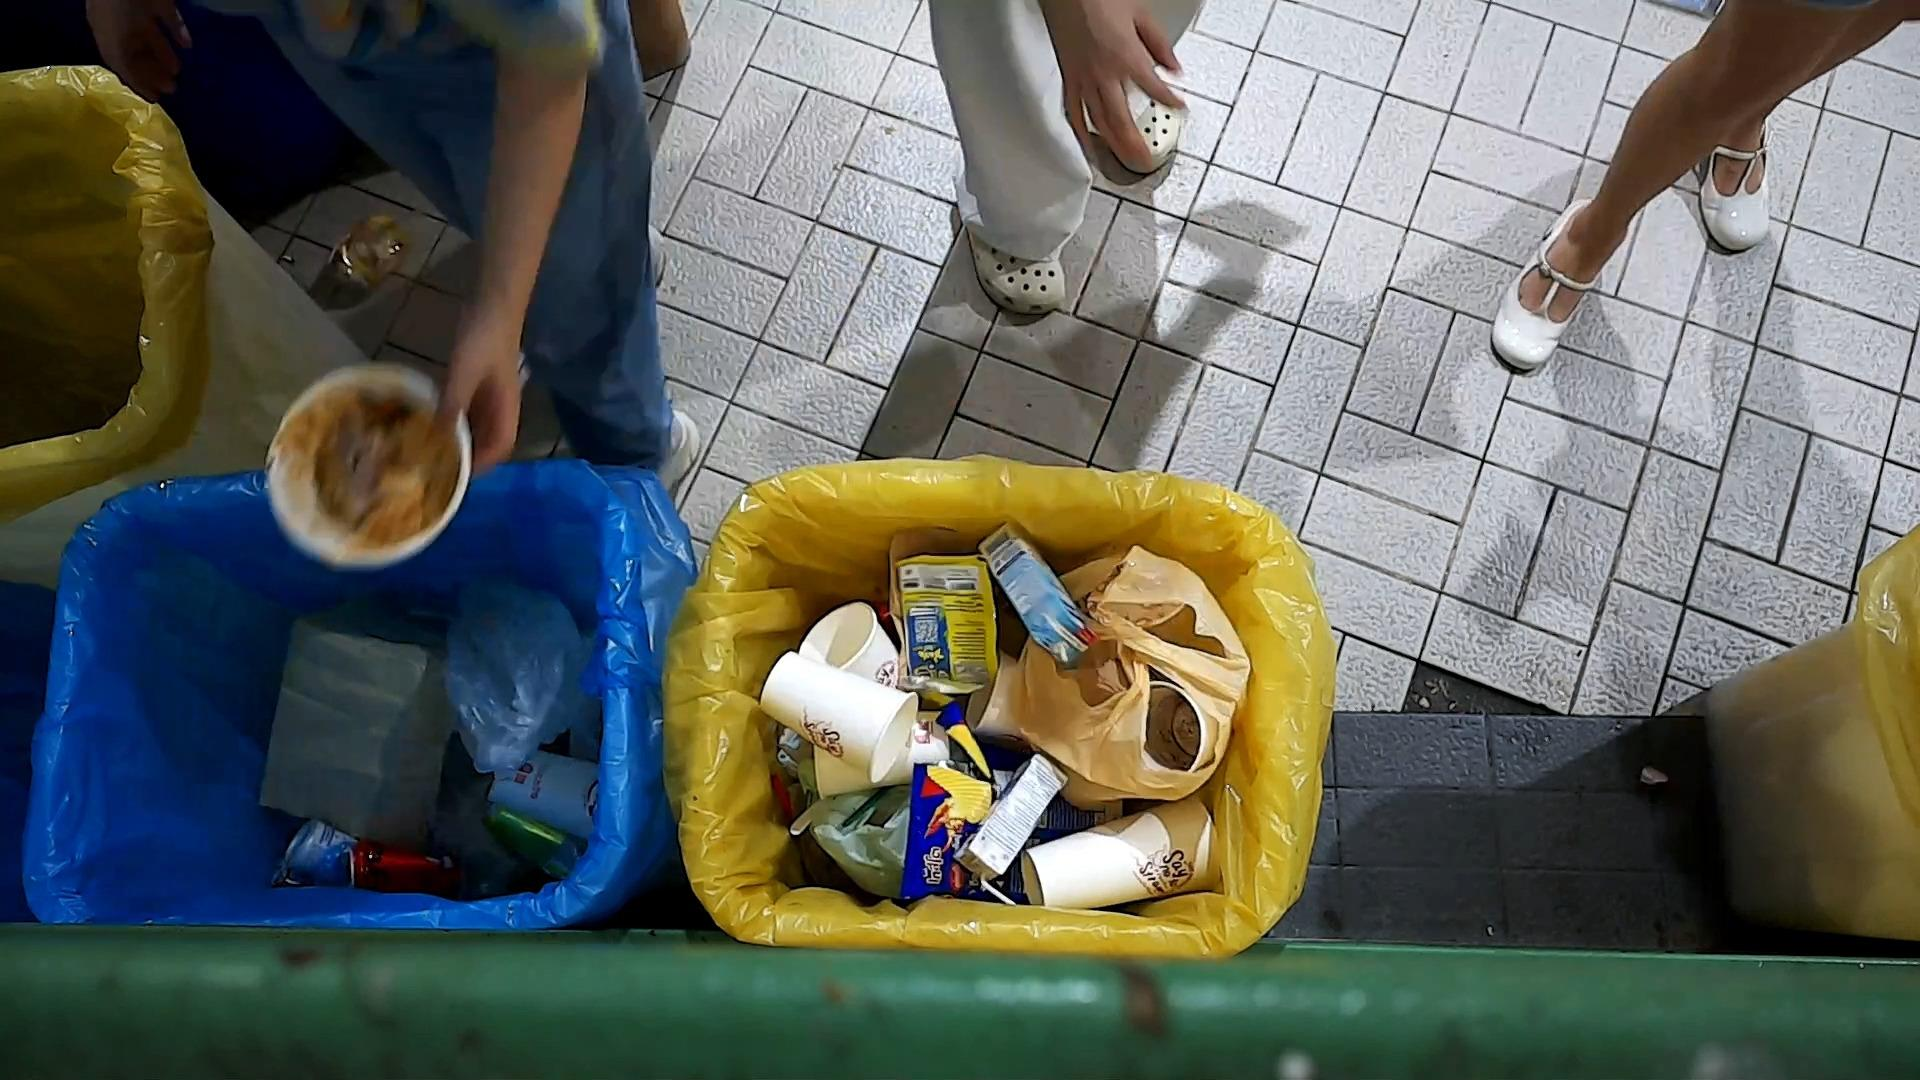can: (480, 804, 588, 884), (344, 837, 471, 899), (272, 816, 363, 889)
dirty food container: (256, 353, 477, 576)
filled plastic bag: (1006, 541, 1255, 816)
milk carton: (948, 750, 1073, 909), (972, 517, 1102, 666)
paper bag: (252, 608, 450, 852)
plastic bag: (434, 574, 597, 778)
snack packaging: (894, 550, 1002, 699)
zero waste cup: (1015, 795, 1226, 914), (754, 646, 919, 790), (481, 741, 603, 845)
